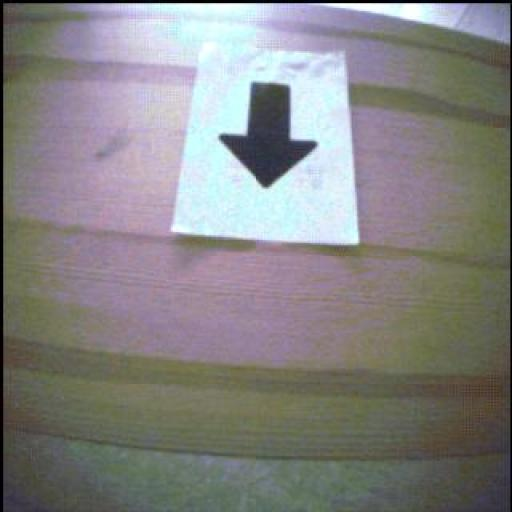arrow: (220, 84, 318, 188)
